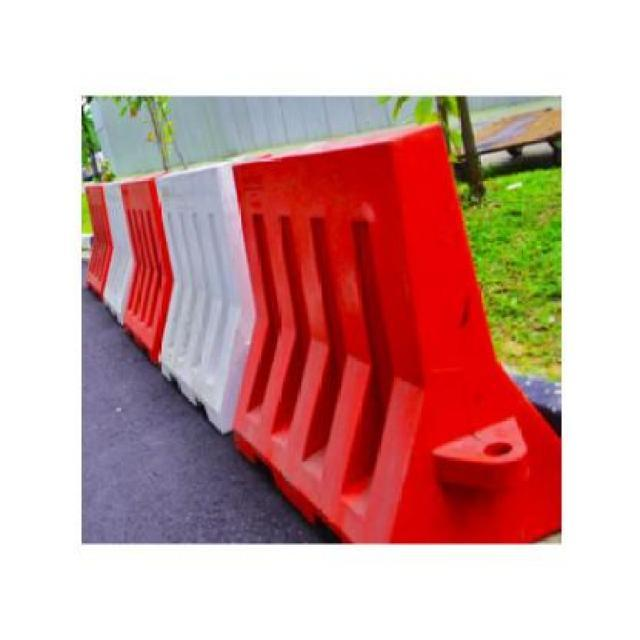fallen_object: (135, 147, 562, 541), (83, 167, 170, 360)
